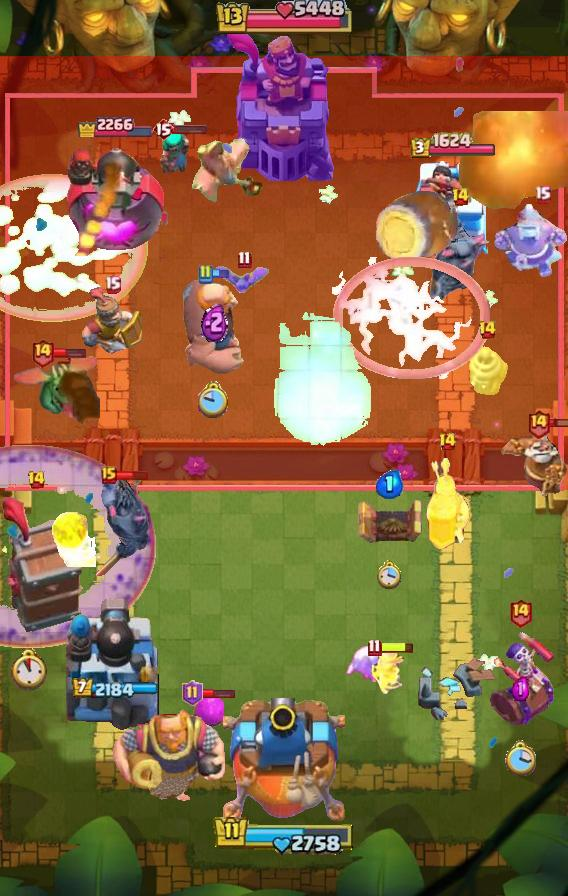balloon: (180, 275, 248, 377)
barbarian: (214, 265, 274, 295)
barbarian-evolution: (332, 257, 490, 379)
cannon: (370, 647, 404, 695)
clock: (213, 816, 355, 857), (213, 0, 355, 38)
dart-goblin: (0, 495, 84, 633)
dirt: (374, 189, 460, 267)
earthquake: (420, 457, 474, 555), (82, 285, 142, 355)
electro-spirit: (201, 301, 228, 343), (376, 470, 404, 499), (511, 677, 529, 701)
electro-wizard: (14, 352, 100, 426)
elixir: (8, 649, 49, 692), (504, 740, 536, 778), (198, 382, 230, 419), (377, 559, 403, 589)
elixir-collector: (492, 204, 568, 280), (498, 426, 568, 498)
emote: (379, 641, 415, 654), (172, 123, 208, 135), (115, 470, 149, 482), (53, 347, 86, 359), (201, 689, 236, 700), (210, 269, 230, 280), (548, 418, 568, 429)
freeze: (191, 138, 267, 204)
giant-skeleton: (111, 704, 227, 804)
goblin-brawler: (354, 498, 426, 546)
goblin-drill: (465, 345, 509, 397)
golemite: (425, 196, 495, 306), (89, 475, 151, 579)
king-tower: (223, 31, 345, 181), (223, 698, 345, 826)
mega-knight: (273, 311, 376, 448)
miner: (192, 697, 224, 727)
mirror: (342, 644, 392, 682)
phoenix-big: (0, 173, 148, 324)
queen-tower: (407, 158, 499, 256)
rocket: (0, 444, 156, 648)
selected: (409, 132, 497, 160), (75, 111, 153, 137), (70, 678, 157, 700)
skeleton-king-bar: (485, 629, 555, 729)
text: (30, 336, 55, 367), (525, 408, 550, 439), (508, 597, 532, 628), (181, 680, 202, 706), (152, 117, 174, 141), (478, 320, 498, 340), (450, 187, 469, 207), (438, 432, 457, 452), (26, 470, 45, 490), (103, 274, 121, 293), (197, 264, 213, 284), (533, 185, 550, 203), (101, 466, 117, 484), (236, 251, 251, 270), (367, 638, 382, 657)
tower-bar: (66, 595, 162, 731), (63, 138, 164, 256)
valkyrie: (445, 111, 567, 219), (48, 511, 96, 567)
witch: (158, 128, 192, 176)
